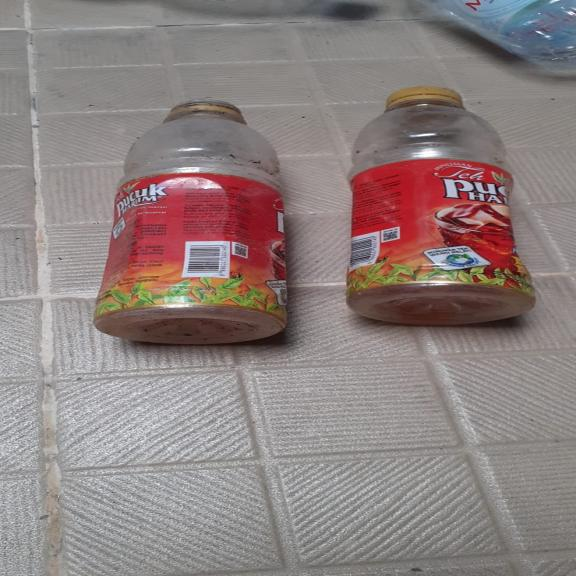Plastik: (89, 92, 302, 348), (343, 84, 535, 327), (420, 0, 576, 69)
